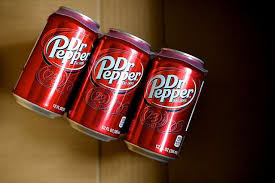can: (15, 2, 89, 142), (74, 18, 143, 146), (137, 44, 199, 183)
